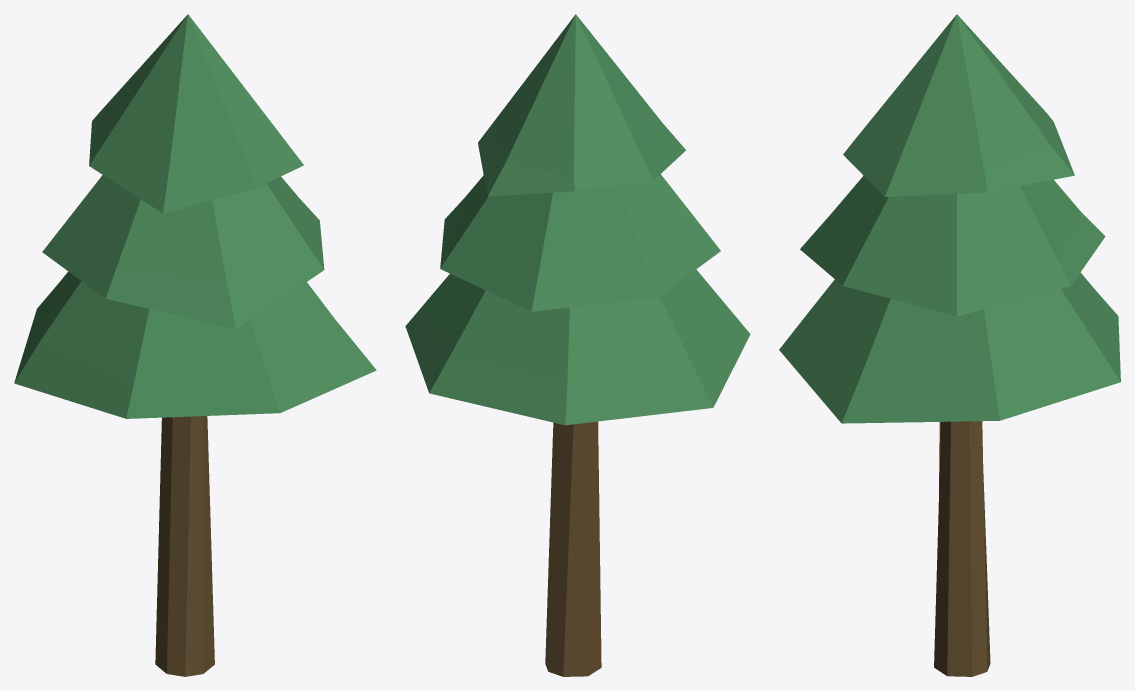
The model's file is Nadelbaum 8.fbx.
3 views of the same model, side by side, from view 1: azimuth 30°, elevation 25°; view 2: azimuth 150°, elevation 25°; view 3: azimuth 270°, elevation 25° (orthographic).
Visible parts, largest first — view 1: Kegel, stamm; view 2: Kegel, stamm; view 3: Kegel, stamm.
Boxes of the visible parts, left/top/right/bottom form: Kegel: left=14, top=14, right=376, bottom=418; stamm: left=155, top=416, right=214, bottom=676; Kegel: left=405, top=14, right=750, bottom=425; stamm: left=545, top=421, right=601, bottom=676; Kegel: left=779, top=14, right=1120, bottom=423; stamm: left=934, top=421, right=990, bottom=676.
Bounding box in the file's own units: 370 × 755 × 359.
